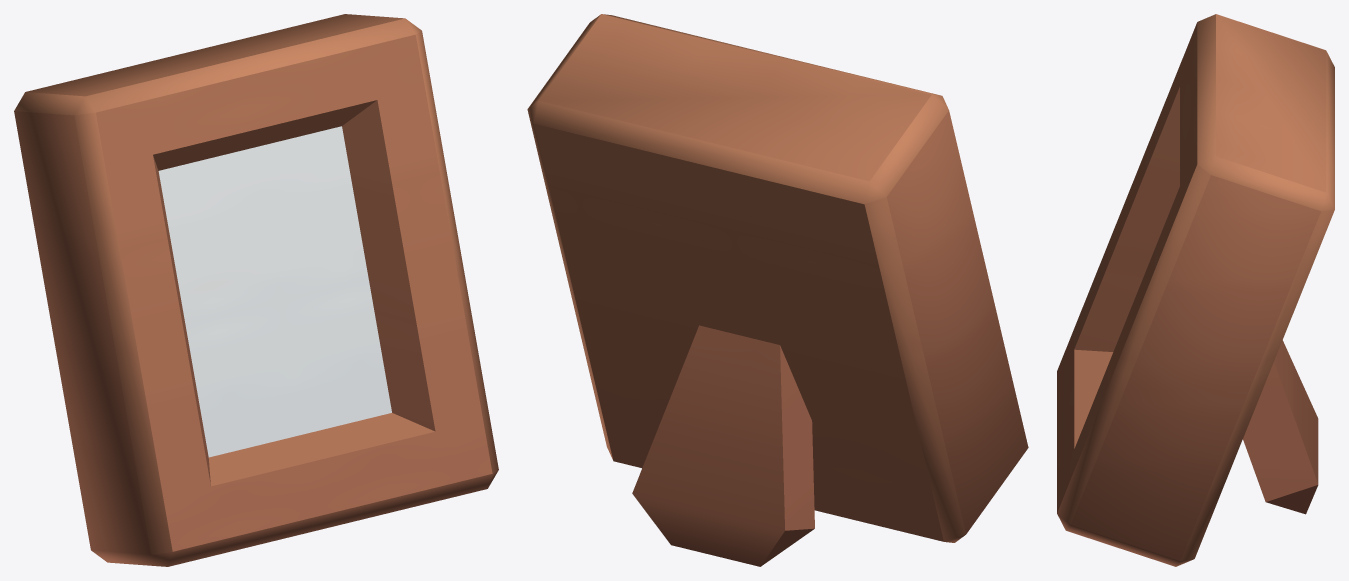
The model's file is pictureframe-standing-a.glb.
3 views of the same model, side by side, from view 1: azimuth 30°, elevation 25°; view 2: azimuth 150°, elevation 25°; view 3: azimuth 270°, elevation 25° (orthographic). The views are drawn at different scales.
Visible parts, largest first — view 1: pictureframe_standing_A; view 2: pictureframe_standing_A; view 3: pictureframe_standing_A.
Boxes of the visible parts, box(x1,y1,x2,y2) form: pictureframe_standing_A: box(14, 14, 498, 566); pictureframe_standing_A: box(527, 14, 1028, 566); pictureframe_standing_A: box(1057, 14, 1334, 566).
Bounding box in the file's own units: 0.5 × 0.6185 × 0.3795.
Materials: 1 (1 with a texture image).
